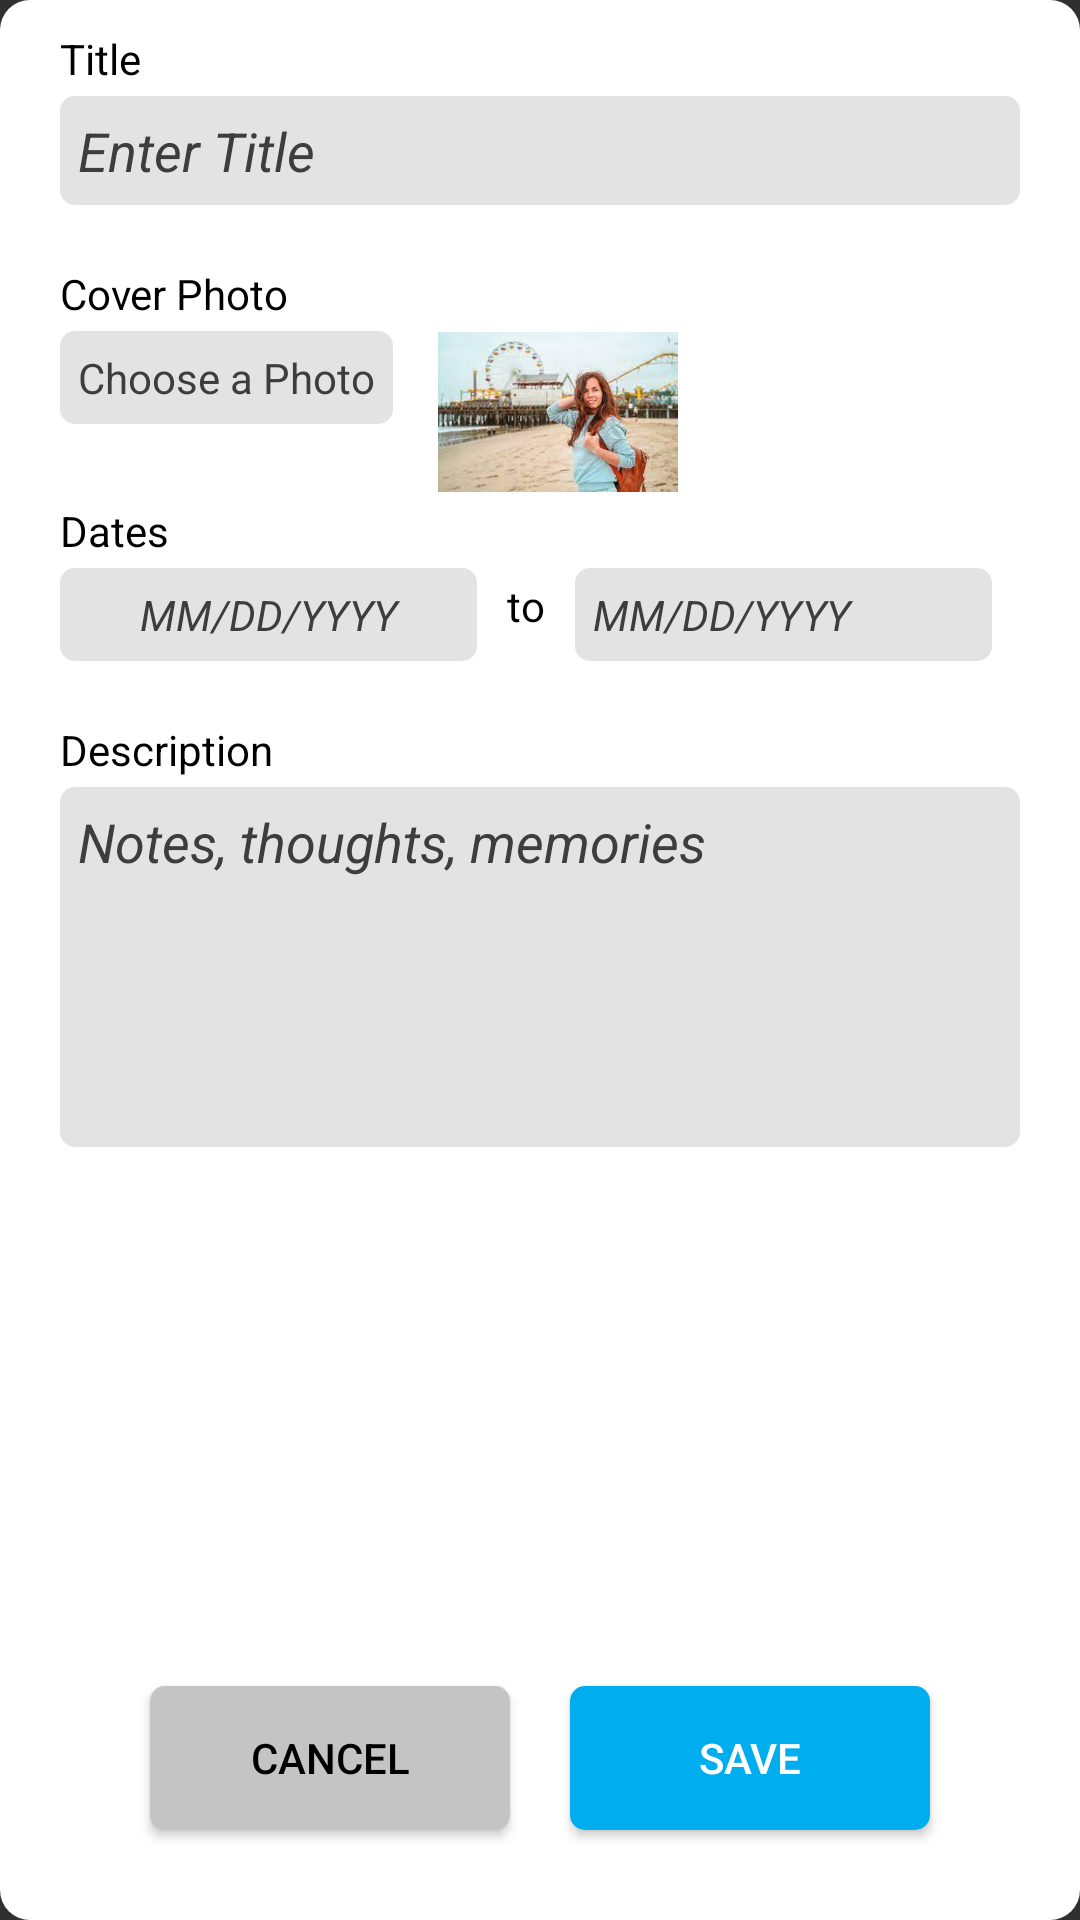

Locate icon controls on the screen. Image size 1080w x 1920h, boxes as (x1, y1, x2, y2).
santamonica: (438, 332, 678, 492)
